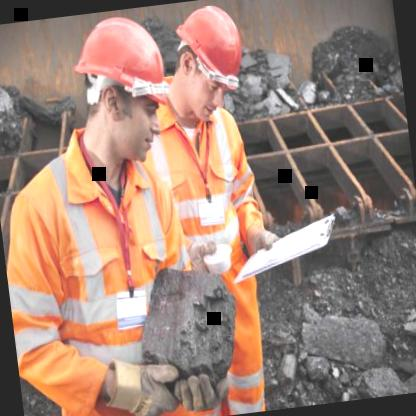helmet: (58, 4, 180, 172), (160, 0, 260, 125)
